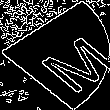M_NW: (8, 20, 102, 90)
